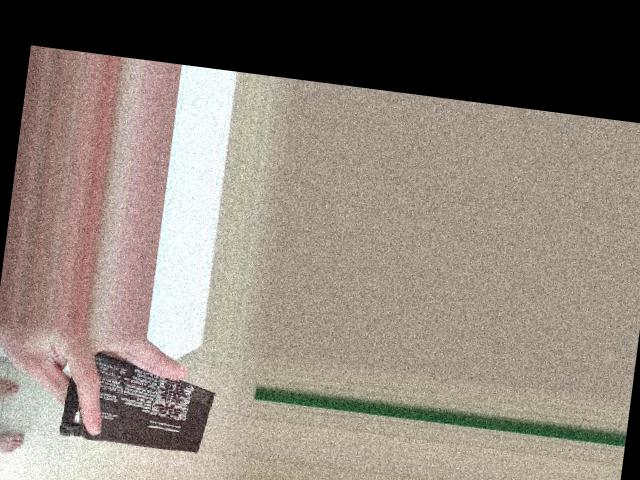chocolate: (59, 346, 223, 457)
